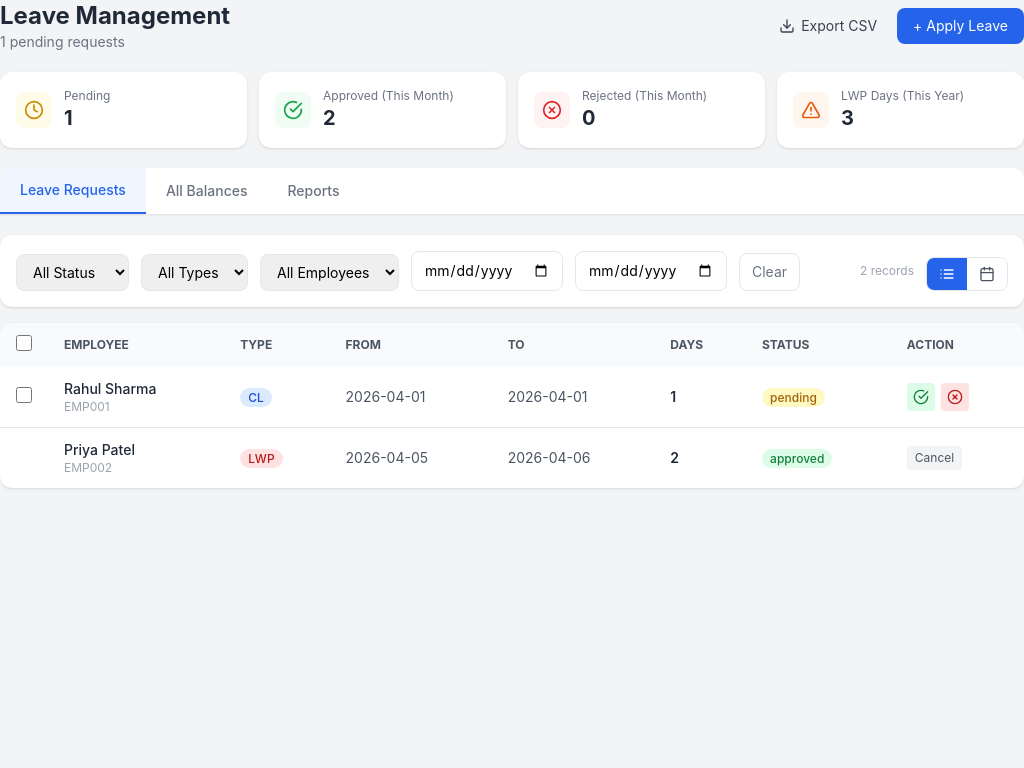
it: UI Test 03 — Leave Management Page › clicking Apply Leave opens modal
Click the button "+ Apply Leave": (961, 26) [897,8,1023,44]
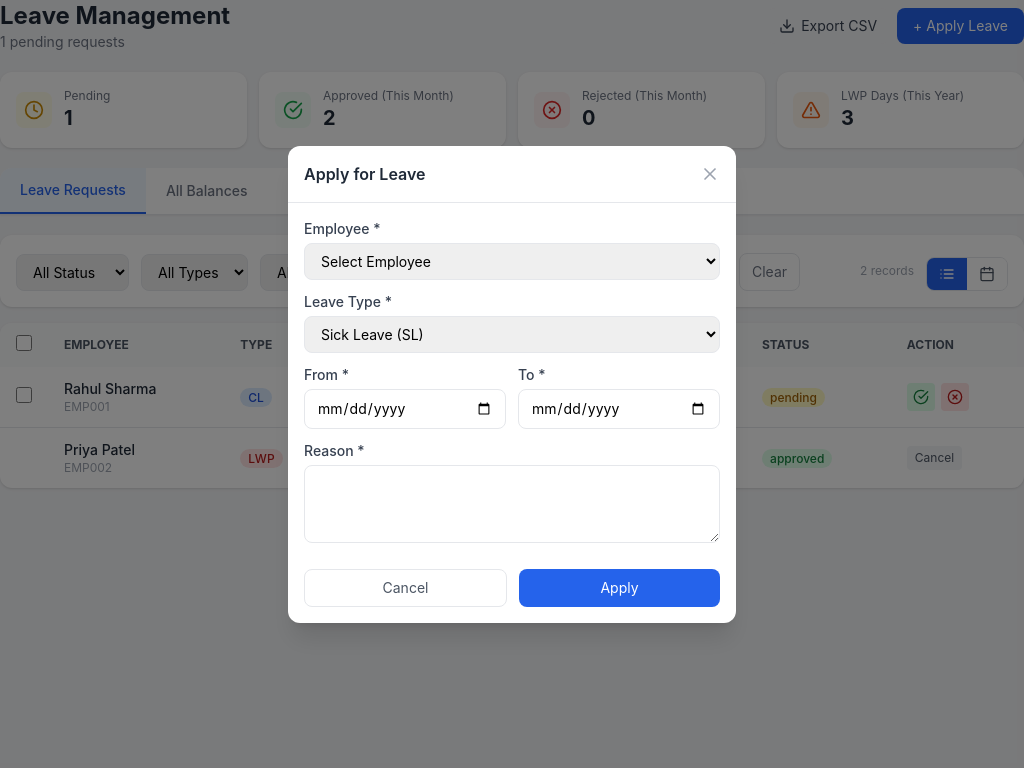
Expected: the heading "Apply for Leave" is shown, [304,162,426,186]
